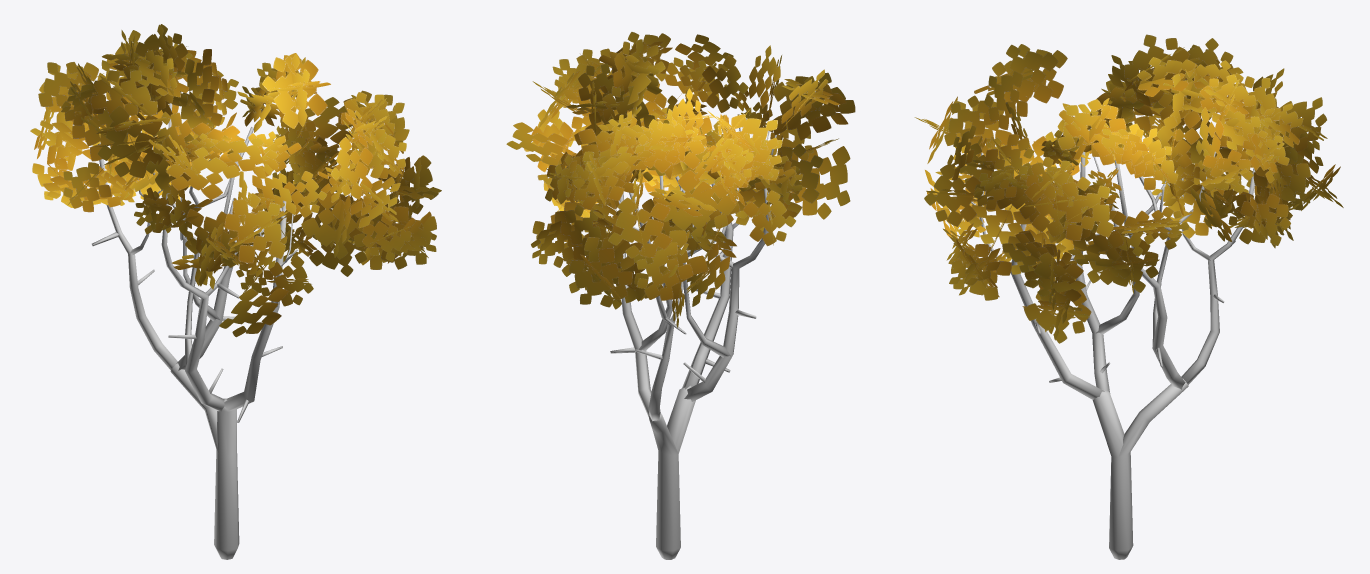
The model's file is model_tree_04b.fbx.
3 views of the same model, side by side, from view 1: azimuth 30°, elevation 25°; view 2: azimuth 150°, elevation 25°; view 3: azimuth 270°, elevation 25° (orthographic). The views are drawn at different scales.
Parts seen in each view (by area): view 1: TSP_Tree_04B_Crown, TSP_Tree_04B; view 2: TSP_Tree_04B_Crown, TSP_Tree_04B; view 3: TSP_Tree_04B_Crown, TSP_Tree_04B.
Part boxes in pixels (<box>): TSP_Tree_04B_Crown: <box>30,24,441,337</box>; TSP_Tree_04B: <box>92,103,297,559</box>; TSP_Tree_04B_Crown: <box>506,32,855,327</box>; TSP_Tree_04B: <box>610,127,776,559</box>; TSP_Tree_04B_Crown: <box>914,34,1343,343</box>; TSP_Tree_04B: <box>971,151,1255,559</box>.
Size of the model in its own units: 7.72 by 11.19 by 9.11.
